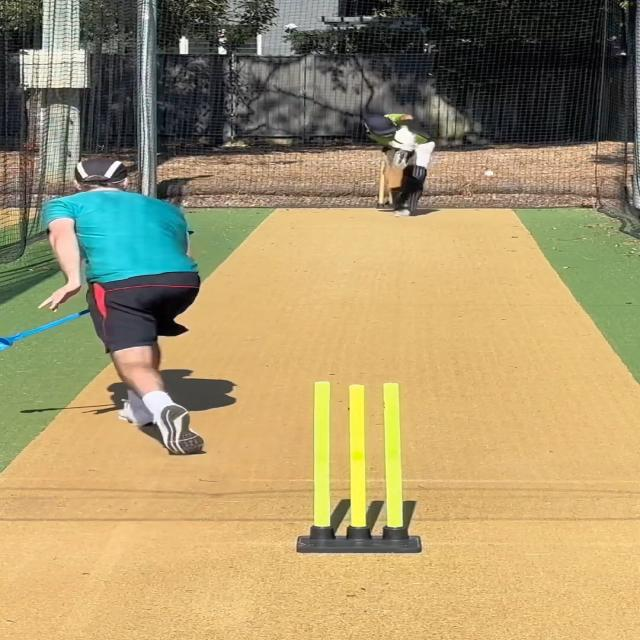ball: (483, 170, 496, 177)
stump: (296, 380, 423, 553)
